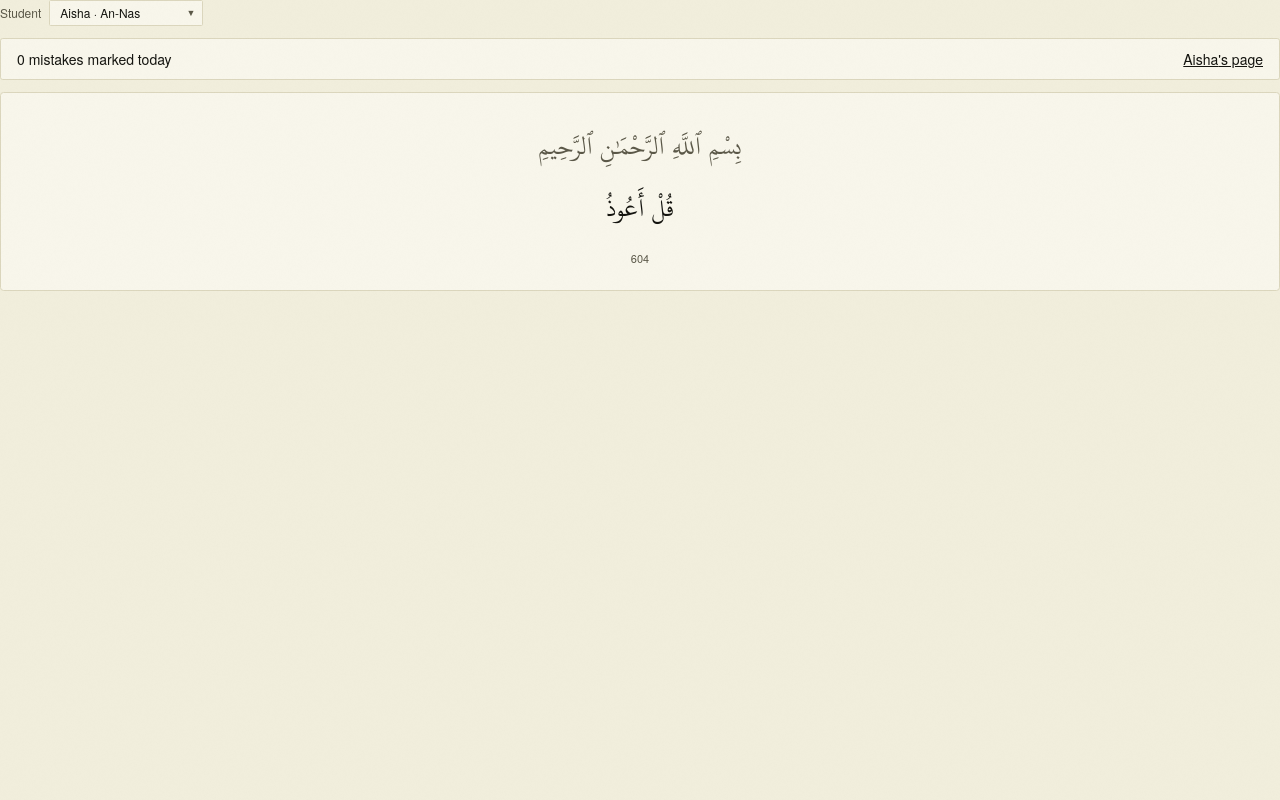
HearDesk › a tap, a category and Save log the mistake at once for the chosen student
What coordinates should you click on to do the following:
click the button "قُلْ"
I would click on:
 (663, 209)
Its box is x1=651 y1=180 x2=674 y2=238.
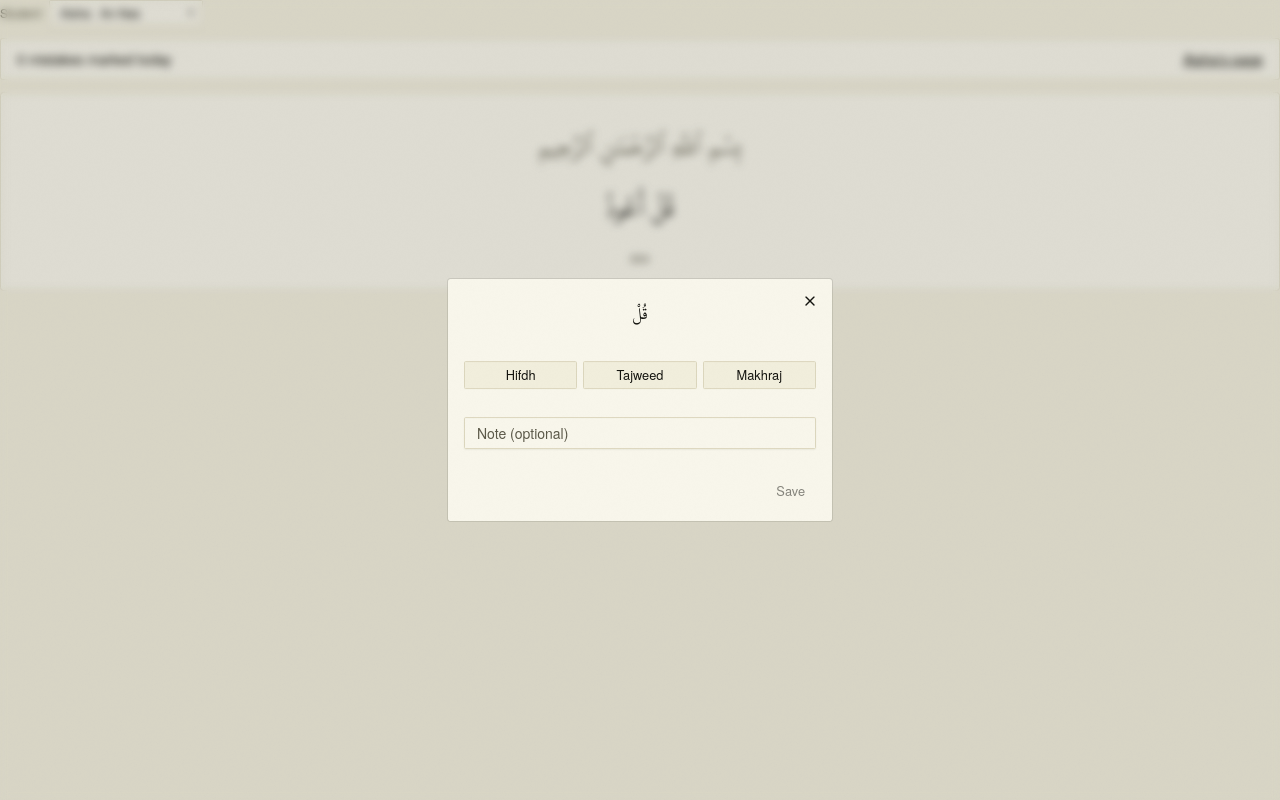
What coordinates should you click on to do the following:
click the button "Hifdh"
I would click on:
 (521, 375)
Its box is x1=464 y1=361 x2=577 y2=389.
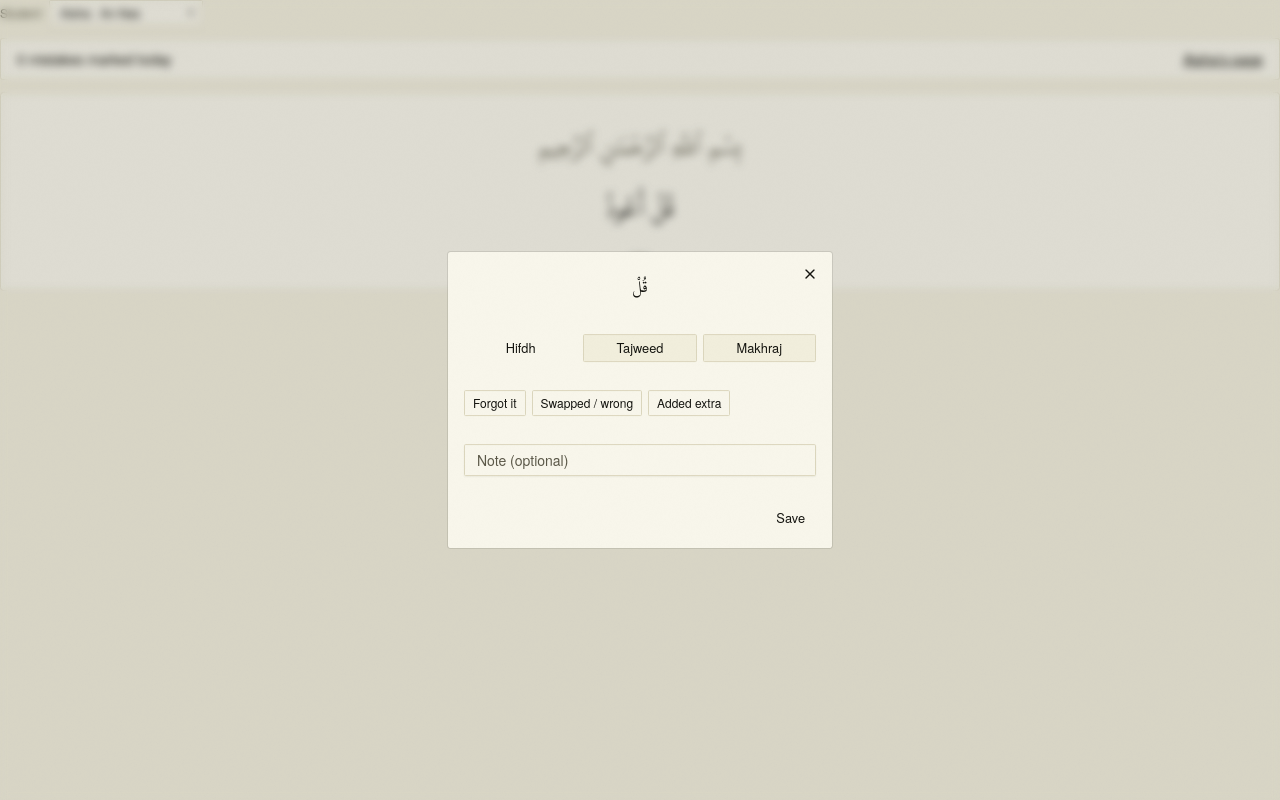
What coordinates should you click on to do the following:
click the button "Save"
I would click on:
 (791, 518)
Its box is x1=765 y1=504 x2=816 y2=532.
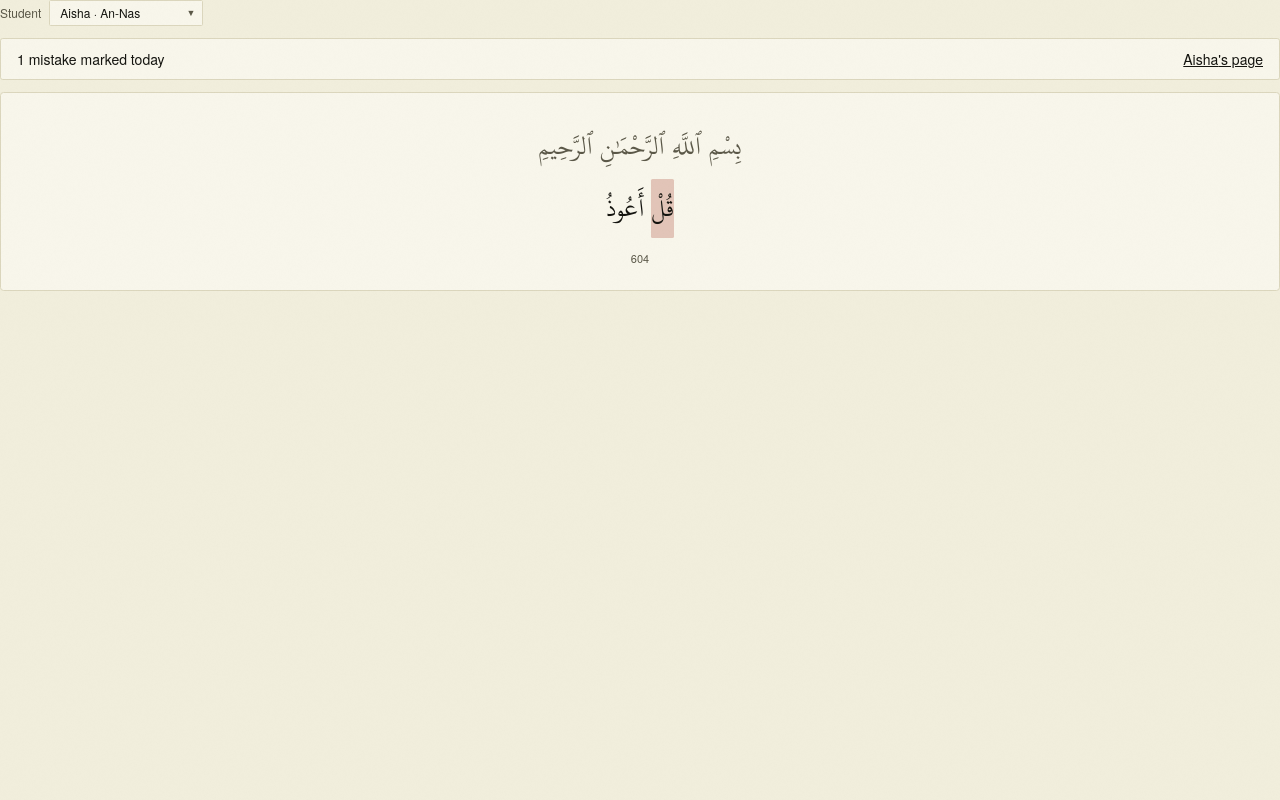
Expected: the text "1 mistake marked today" is shown, x1=17 y1=49 x2=165 y2=69
